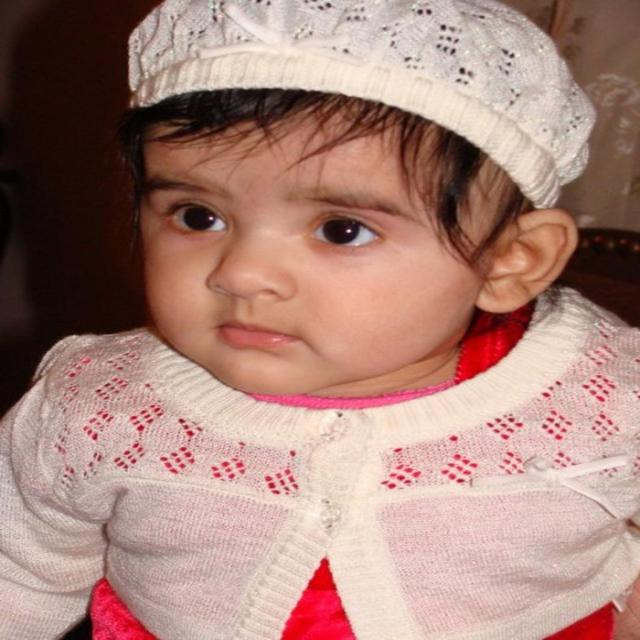Face: (118, 69, 517, 386)
